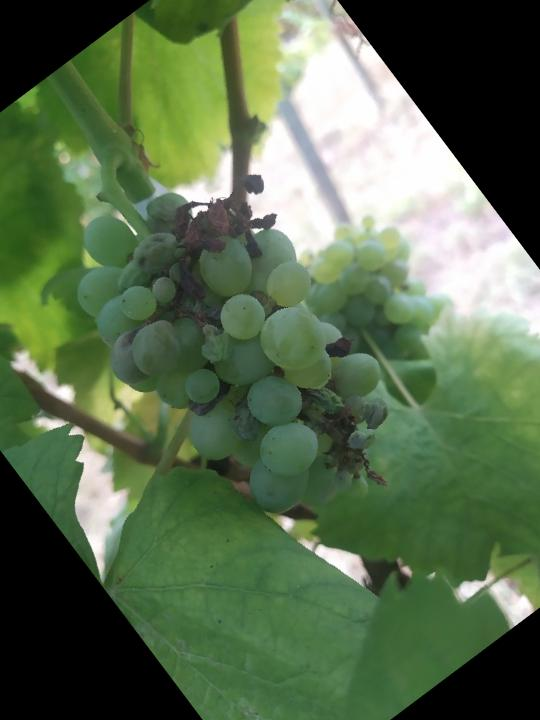grape: (31, 122, 458, 580)
